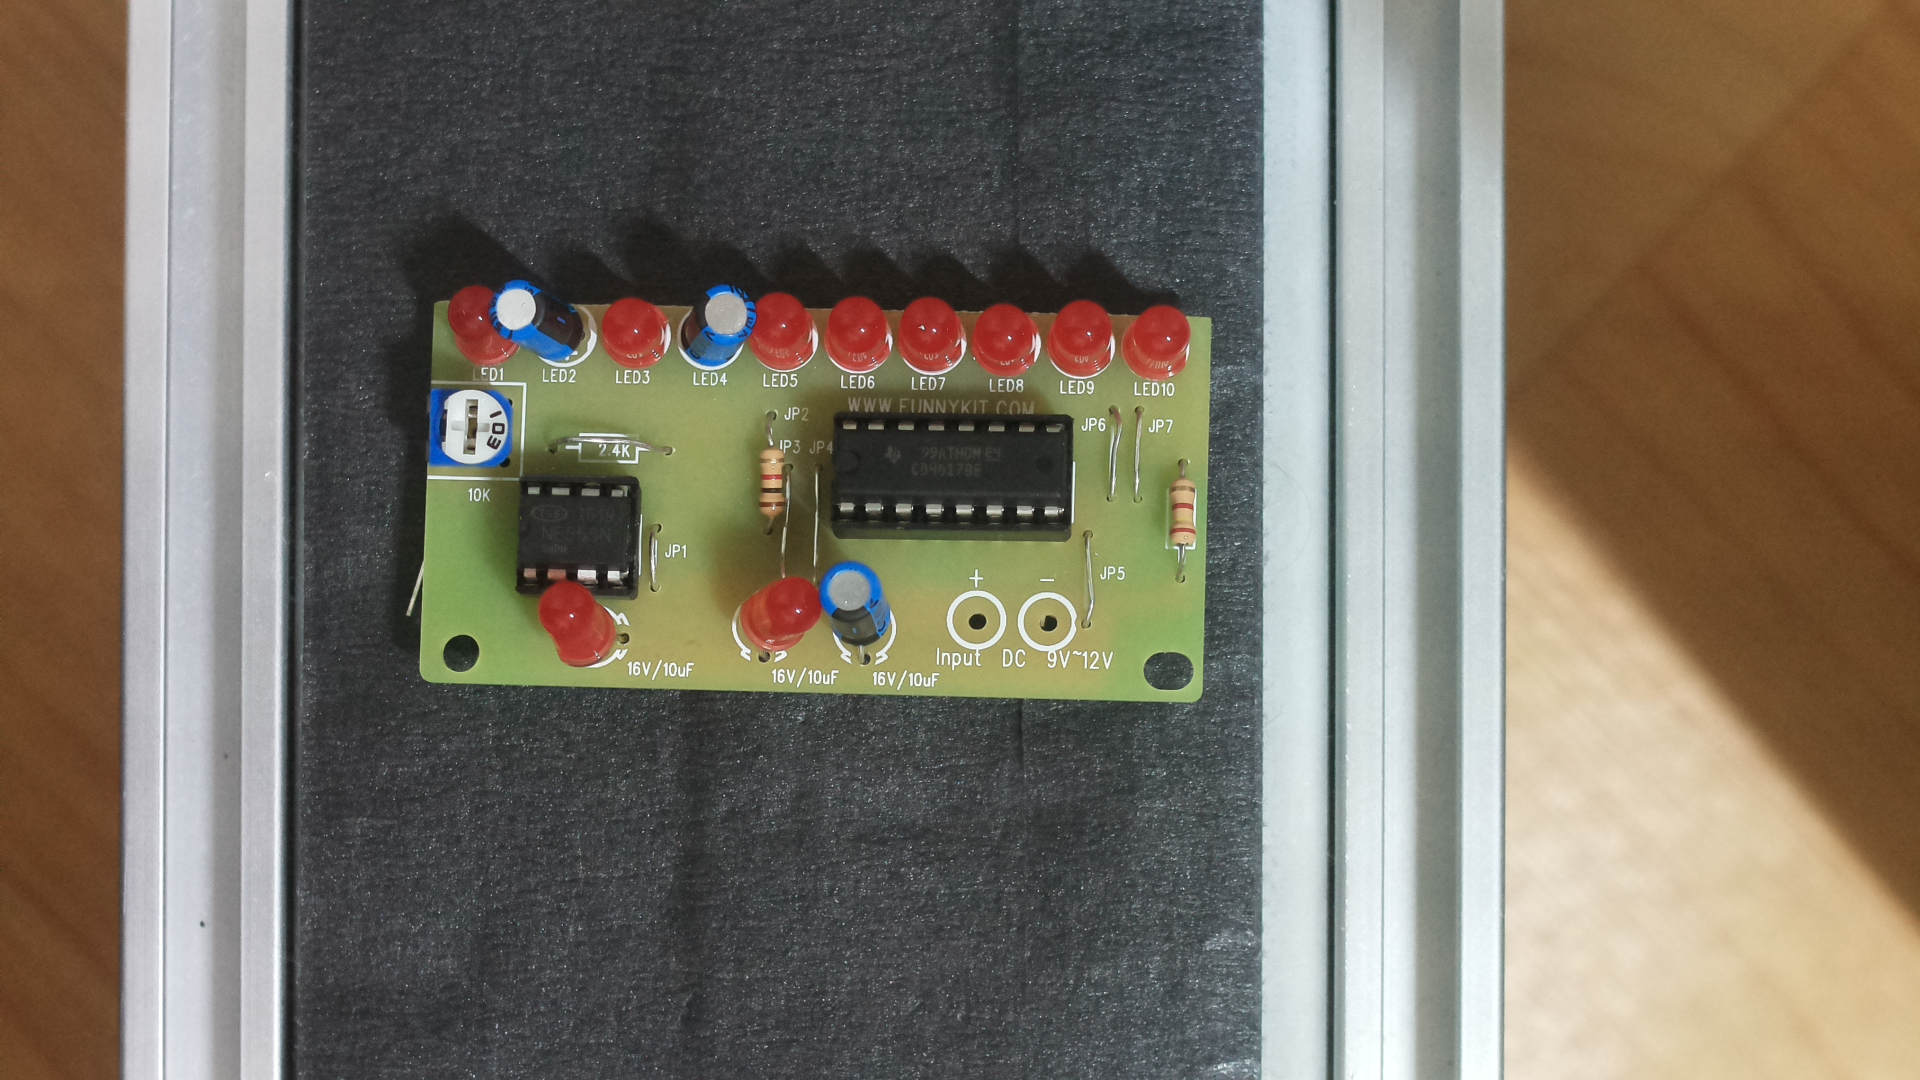B_Misordered: (404, 272, 1232, 720)
